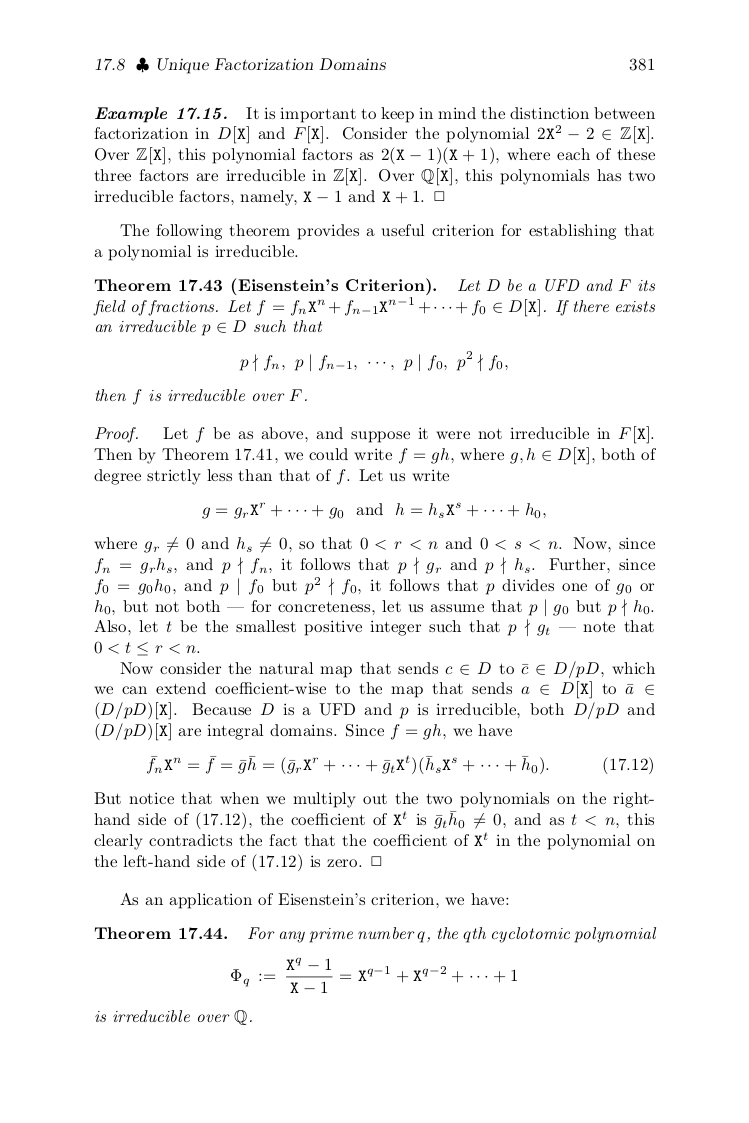formula: (147, 754, 652, 775), (231, 956, 517, 993), (202, 501, 545, 519), (239, 350, 507, 372)
